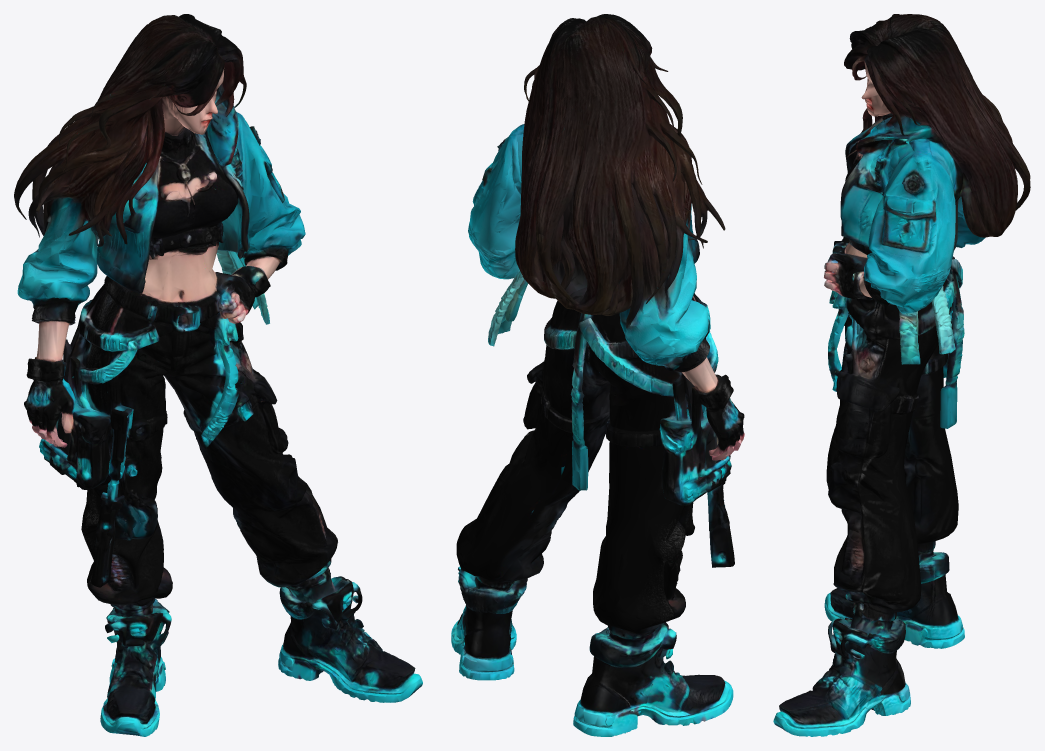
The model's file is nova.glb.
3 views of the same model, side by side, from view 1: azimuth 30°, elevation 25°; view 2: azimuth 150°, elevation 25°; view 3: azimuth 270°, elevation 25° (orthographic). The views are drawn at different scales.
Visible parts, largest first — view 1: model; view 2: model; view 3: model.
Part boxes in pixels (x1=…): model: x1=14, y1=14, x2=422, y2=736; model: x1=451, y1=14, x2=744, y2=736; model: x1=773, y1=14, x2=1030, y2=736.
Size of the model in its own units: 0.9714 by 1.89 by 0.6912.
1 material, 1 textured.
